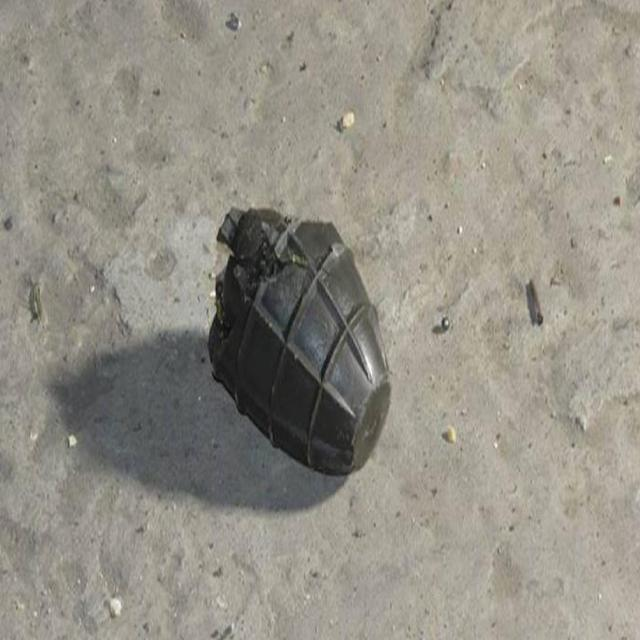grenade: (207, 207, 391, 476)
